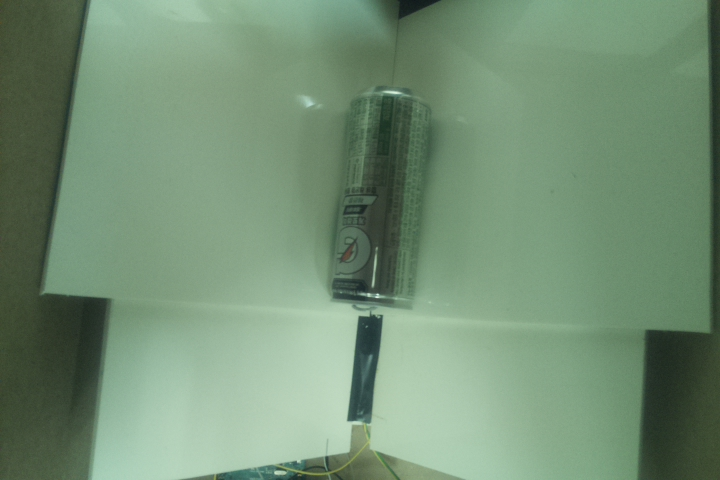can: (328, 85, 433, 315)
